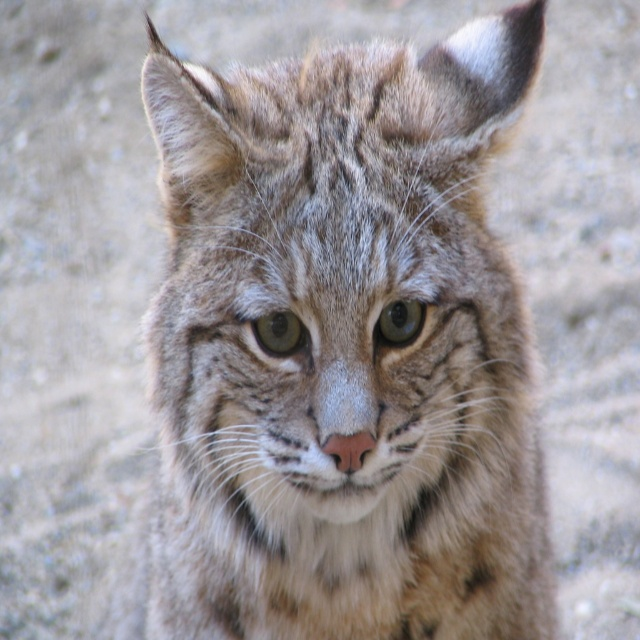Lynx: (138, 1, 563, 640)
